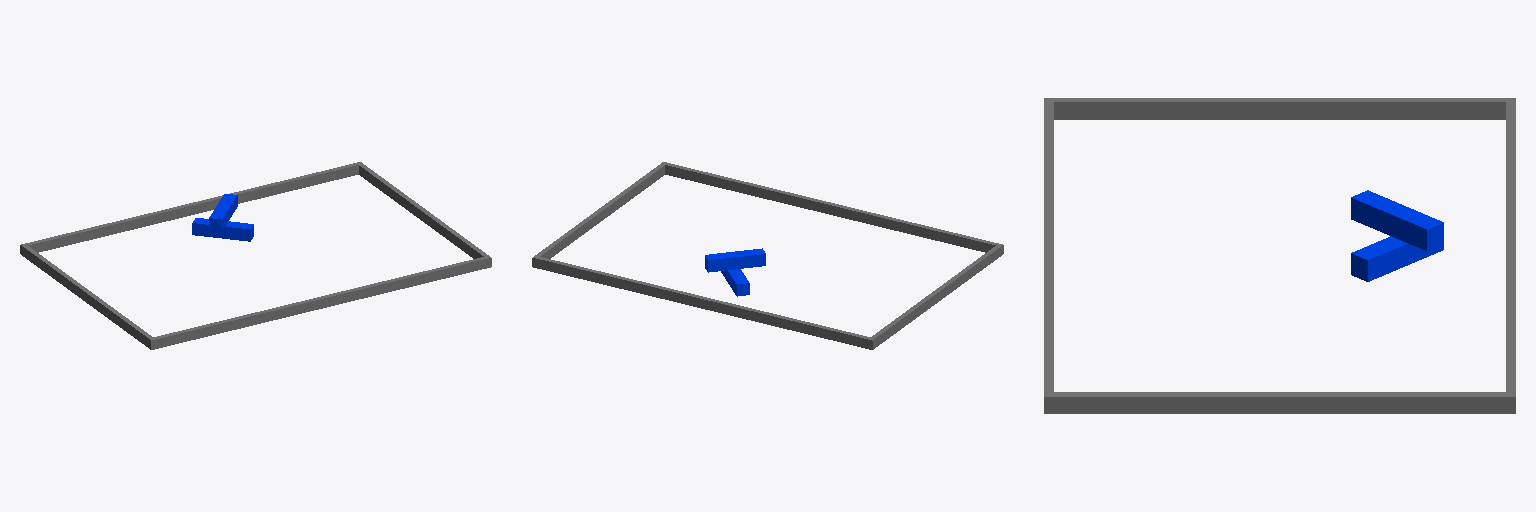
robot.urdf — dev_field:
<?xml version="1.0"?>
<robot name="dev_field">

  <!--
    Static visual of the 8 ft x 12 ft dev enclosure (center goal only).
    Anchored to the map frame — same convention as pushBackField.urdf.

    Load in RViz: RobotModel display -> "Description Source: File" -> this file
    Fixed Frame: map
  -->

  <link name="map">

    <!-- Bottom wall: x=[0, 3.6576], y=[0, 0.0508] -->
    <visual>
      <origin xyz="1.8288 0.0254 0.05" rpy="0 0 0"/>
      <geometry>
        <box size="3.6576 0.0508 0.1"/>
      </geometry>
      <material name="wall_grey">
        <color rgba="0.5 0.5 0.5 0.8"/>
      </material>
    </visual>

    <!-- Top wall: x=[0, 3.6576], y=[2.3876, 2.4384] -->
    <visual>
      <origin xyz="1.8288 2.4130 0.05" rpy="0 0 0"/>
      <geometry>
        <box size="3.6576 0.0508 0.1"/>
      </geometry>
      <material name="wall_grey2">
        <color rgba="0.5 0.5 0.5 0.8"/>
      </material>
    </visual>

    <!-- Left wall: x=[0, 0.0508], y=[0, 2.4384] -->
    <visual>
      <origin xyz="0.0254 1.2192 0.05" rpy="0 0 0"/>
      <geometry>
        <box size="0.0508 2.4384 0.1"/>
      </geometry>
      <material name="wall_grey3">
        <color rgba="0.5 0.5 0.5 0.8"/>
      </material>
    </visual>

    <!-- Right wall: x=[3.6068, 3.6576], y=[0, 2.4384] -->
    <visual>
      <origin xyz="3.6322 1.2192 0.05" rpy="0 0 0"/>
      <geometry>
        <box size="0.0508 2.4384 0.1"/>
      </geometry>
      <material name="wall_grey4">
        <color rgba="0.5 0.5 0.5 0.8"/>
      </material>
    </visual>

    <!-- center_goal_high -->
    <visual>
      <origin xyz="1.828 1.828 0.25" rpy="0 0 0.785398163"/>
      <geometry>
        <box size="0.56 0.125 0.125"/>
      </geometry>
      <material name="center_goal_high_mat">
        <color rgba="0 0.3 1 0.3"/>
      </material>
    </visual>
    <collision>
      <origin xyz="1.828 1.828 0.25" rpy="0 0 0.785398163"/>
      <geometry>
        <box size="0.56 0.125 0.125"/>
      </geometry>
    </collision>

    <!-- center_goal_low -->
    <visual>
      <origin xyz="1.828 1.828 0.075" rpy="0 0 -0.785398163"/>
      <geometry>
        <box size="0.56 0.125 0.125"/>
      </geometry>
      <material name="center_goal_low_mat">
        <color rgba="0 0.3 1 0.3"/>
      </material>
    </visual>
    <collision>
      <origin xyz="1.828 1.828 0.075" rpy="0 0 -0.785398163"/>
      <geometry>
        <box size="0.56 0.125 0.125"/>
      </geometry>
    </collision>

  </link>

</robot>

--- What the picture shows (computed from the rendered views, not written in the file) ---
Views: 3 orthographic renders of the robot side by side, from view 1: azimuth 30°, elevation 25°; view 2: azimuth 150°, elevation 25°; view 3: azimuth 270°, elevation 25°.
Model dev_field with 1 links and 0 joints (none), rooted at map, posed every joint at zero.
Links seen in each view (by area): view 1: map; view 2: map; view 3: map.
Link boxes in pixels (bbox=[...]): map: bbox=[20, 162, 491, 349]; map: bbox=[532, 162, 1003, 349]; map: bbox=[1044, 98, 1515, 413].
Bounding box of the posed robot: 3.66 × 2.44 × 0.3125 m (x, y, z).
Geometry: primitives only (box / cylinder / sphere), no mesh files.
